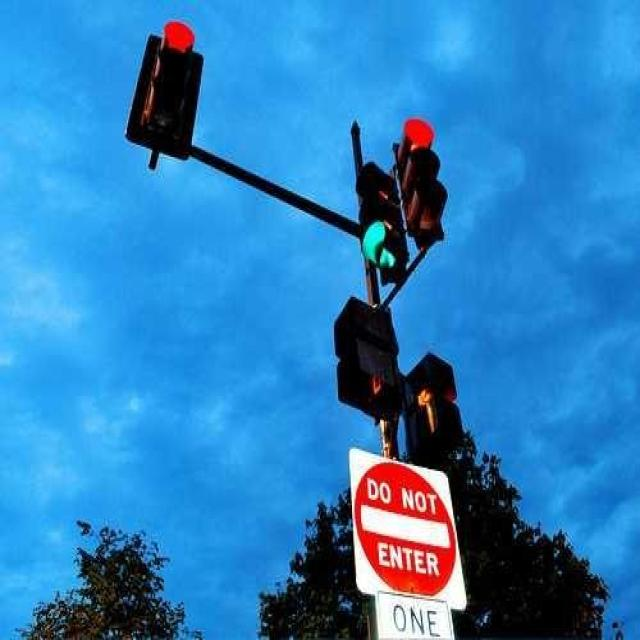Traffic Light -Green-: (358, 159, 402, 277)
Traffic Light -Red-: (127, 20, 206, 164), (401, 117, 451, 246)
